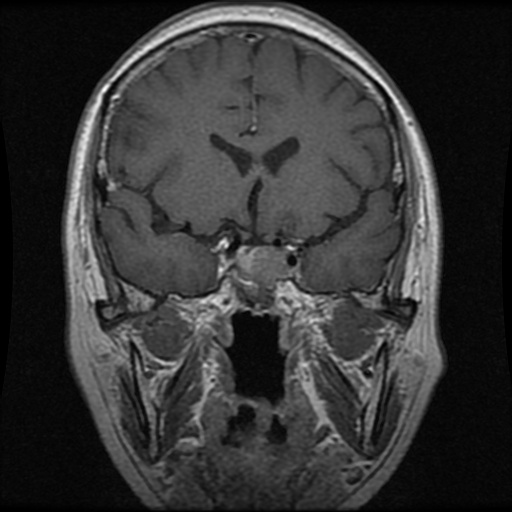pituitary: (226, 242, 295, 309)
